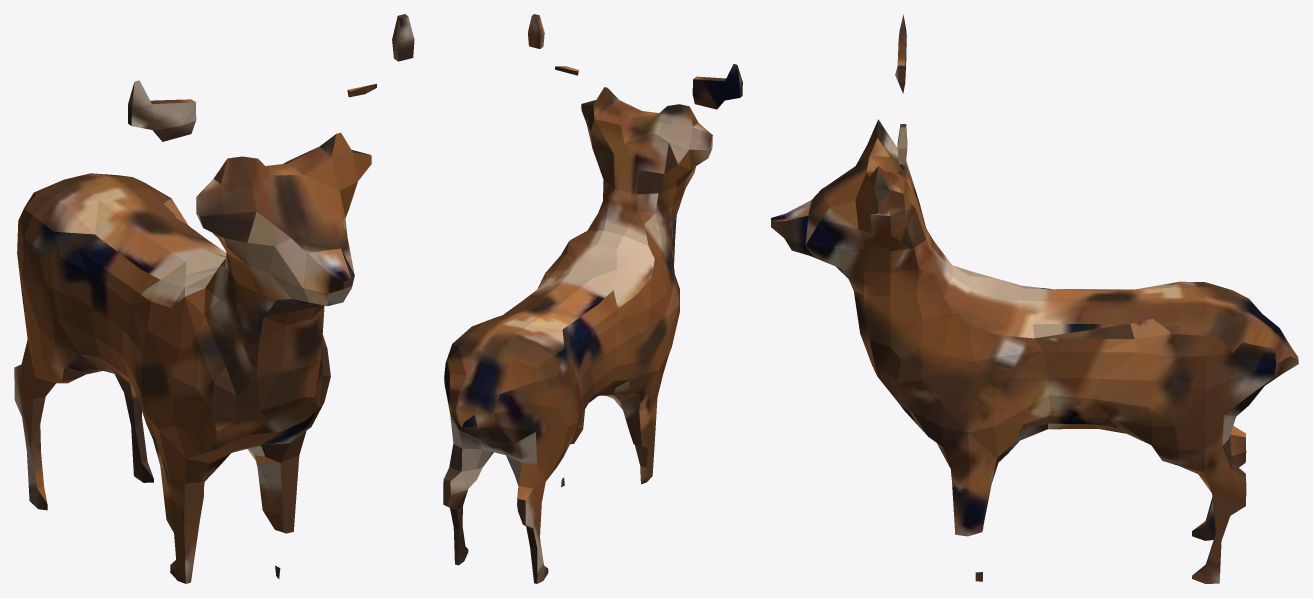
Rendered from deer.glb.
3 renders of one model, left to right at view 1: azimuth 30°, elevation 25°; view 2: azimuth 150°, elevation 25°; view 3: azimuth 270°, elevation 25°, orthographic. The views are drawn at different scales.
Visible parts, largest first — view 1: material.001; view 2: material.001; view 3: material.001.
Part boxes in pixels (x1,y1,x2,y2): material.001: (14,14,414,583); material.001: (443,14,742,583); material.001: (771,14,1298,583).
Bounding box in the file's own units: 0.4716 × 0.9233 × 0.8983.
Materials: 1 (1 with a texture image).
